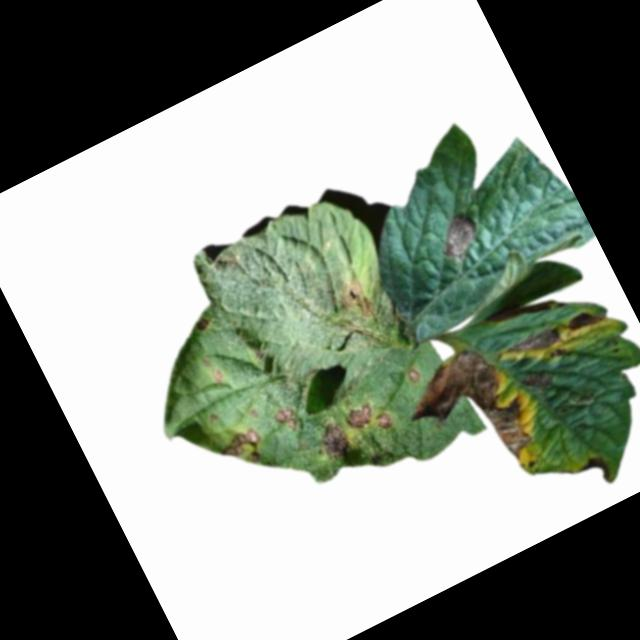Early_blight: (394, 337, 547, 497), (430, 209, 492, 269), (217, 422, 271, 476), (330, 272, 380, 327), (504, 323, 566, 367), (316, 419, 355, 462), (342, 397, 381, 432), (520, 363, 558, 398), (564, 304, 603, 337), (578, 454, 614, 489), (272, 402, 303, 436), (375, 407, 399, 431), (405, 366, 424, 387), (194, 313, 213, 333)
